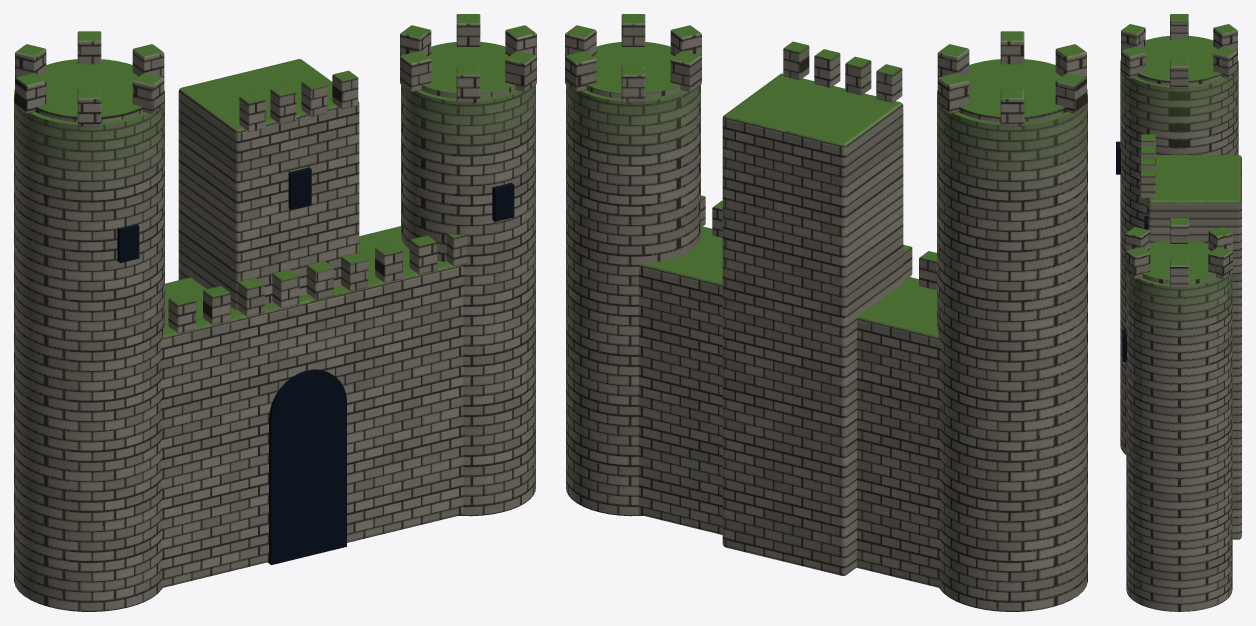
File: d_castle.glb
The picture shows the model from 3 angles, left to right: view 1: azimuth 30°, elevation 25°; view 2: azimuth 150°, elevation 25°; view 3: azimuth 270°, elevation 25°; orthographic projection. The views are drawn at different scales.
Visible parts, largest first — view 1: castle; view 2: castle; view 3: castle.
Part boxes in pixels (bbox=[...]): castle: bbox=[14, 14, 536, 611]; castle: bbox=[565, 14, 1087, 611]; castle: bbox=[1116, 14, 1241, 611].
Bounding box in the file's own units: 1.48 × 1.43 × 0.403.
1 material, 1 textured.
